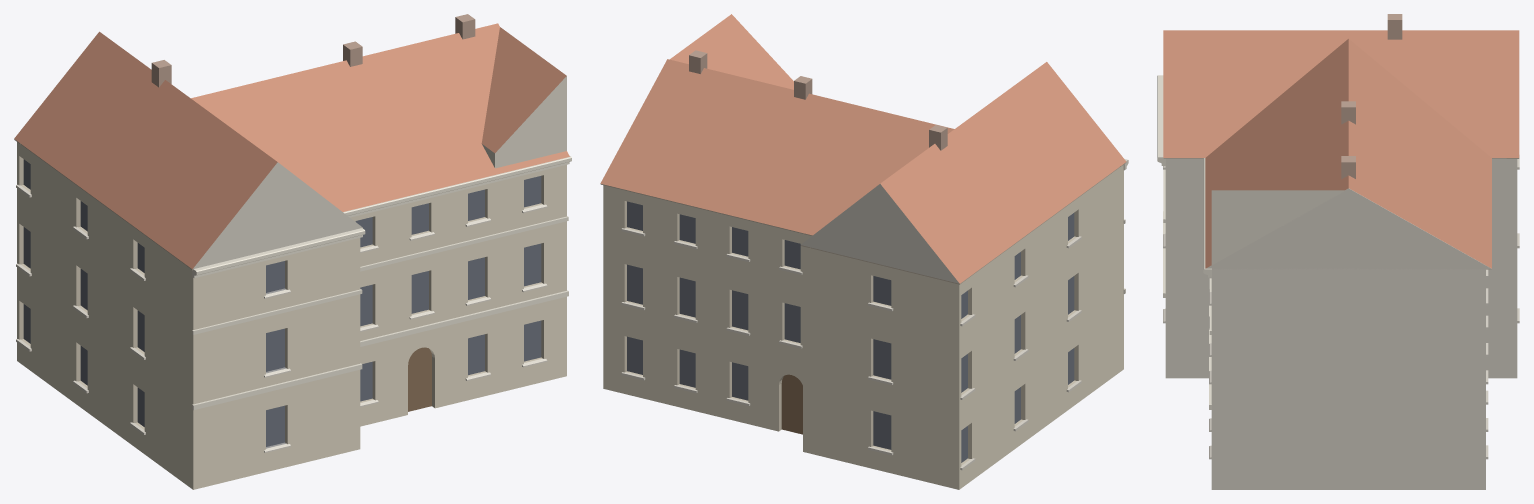
3 views of the same model, side by side, from view 1: azimuth 30°, elevation 25°; view 2: azimuth 150°, elevation 25°; view 3: azimuth 270°, elevation 25° (orthographic). The views are drawn at different scales.
Visible parts, largest first — view 1: CP_513_Masonry, CP_513_WingRoof_Risalit, CP_513_Roof, CP_513_Dormer_ZW, CP_513_Cornice_main_C_0, CP_513_Cornice_main_R_0, CP_513_Cornice_string1_C_0, CP_513_Cornice_string2_C_0, CP_513_Cornice_string1_R_0, CP_513_Cornice_string2_R_0; view 2: CP_513_Masonry, CP_513_Roof, CP_513_WingRoof_Risalit, CP_513_Dormer_ZW; view 3: CP_513_Masonry, CP_513_Roof, CP_513_WingRoof_Risalit, CP_513_Gable_R_gable, CP_513_Dormer_ZW, CP_513_Cornice_main_R_0, CP_513_Chimney_2, CP_513_Cornice_main_C_0.
Part boxes in pixels (left/top/right/bottom): CP_513_Masonry: left=17, top=142, right=566, bottom=489; CP_513_WingRoof_Risalit: left=14, top=31, right=362, bottom=269; CP_513_Roof: left=191, top=23, right=569, bottom=211; CP_513_Dormer_ZW: left=481, top=27, right=566, bottom=168; CP_513_Cornice_main_C_0: left=343, top=156, right=571, bottom=217; CP_513_Cornice_main_R_0: left=192, top=228, right=365, bottom=278; CP_513_Cornice_string1_C_0: left=360, top=290, right=568, bottom=346; CP_513_Cornice_string2_C_0: left=360, top=216, right=568, bottom=271; CP_513_Cornice_string1_R_0: left=192, top=363, right=362, bottom=410; CP_513_Cornice_string2_R_0: left=192, top=289, right=362, bottom=334; CP_513_Masonry: left=603, top=165, right=1123, bottom=489; CP_513_Roof: left=600, top=59, right=954, bottom=235; CP_513_WingRoof_Risalit: left=801, top=62, right=1126, bottom=283; CP_513_Dormer_ZW: left=670, top=14, right=793, bottom=89; CP_513_Masonry: left=1165, top=158, right=1517, bottom=489; CP_513_Roof: left=1205, top=38, right=1491, bottom=268; CP_513_WingRoof_Risalit: left=1163, top=30, right=1519, bottom=157; CP_513_Gable_R_gable: left=1206, top=188, right=1491, bottom=269; CP_513_Dormer_ZW: left=1211, top=190, right=1345, bottom=264; CP_513_Cornice_main_R_0: left=1157, top=75, right=1165, bottom=165; CP_513_Chimney_2: left=1387, top=14, right=1402, bottom=39; CP_513_Cornice_main_C_0: left=1203, top=158, right=1211, bottom=277.
Bounding box in the file's own units: 22.26 × 17.1 × 17.53.
